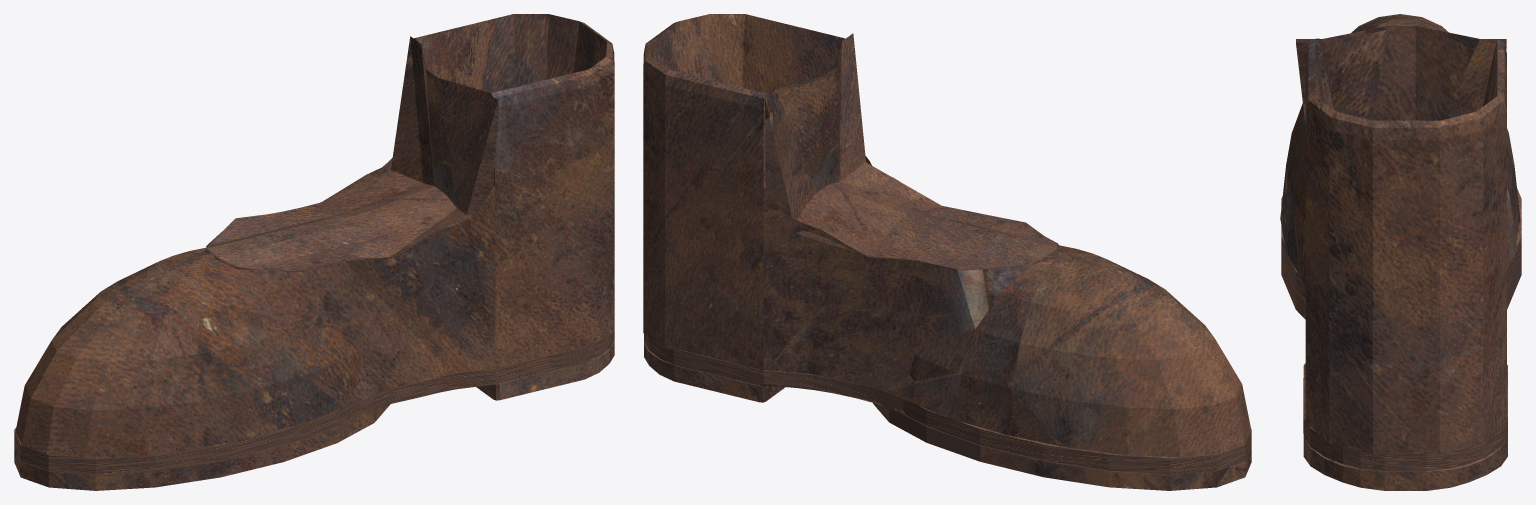
The model's file is shoe.FBX.
The picture shows the model from 3 angles, left to right: view 1: azimuth 30°, elevation 25°; view 2: azimuth 150°, elevation 25°; view 3: azimuth 270°, elevation 25°; orthographic projection. The views are drawn at different scales.
Parts seen in each view (by area): view 1: Boot; view 2: Boot; view 3: Boot.
Boxes of the visible parts, x1=… form: Boot: x1=14, y1=14, x2=614, y2=490; Boot: x1=643, y1=14, x2=1251, y2=490; Boot: x1=1280, y1=14, x2=1521, y2=490.
Size of the model in its own units: 19.09 by 9.54 by 5.7.
